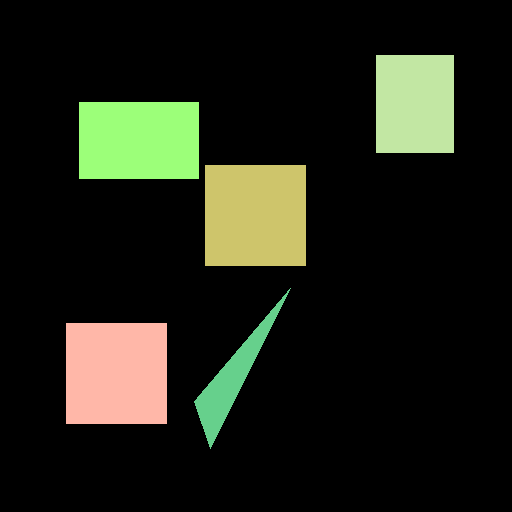rectangle: (79, 102, 198, 178), (376, 55, 453, 152)
square: (66, 323, 166, 423), (205, 165, 305, 265)
triangle: (194, 288, 290, 448)
